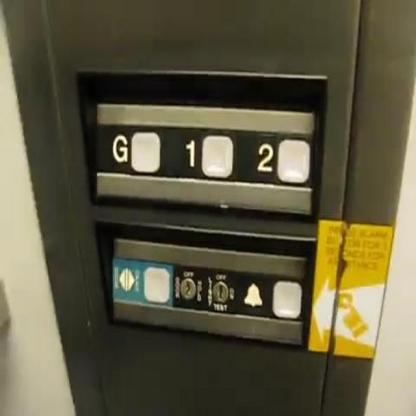1: (175, 124, 238, 183)
2: (249, 128, 315, 189)
G: (106, 121, 165, 178)
alarm: (239, 269, 306, 326)
keyhole: (180, 276, 196, 299), (212, 280, 227, 302)
open: (109, 256, 175, 309)
